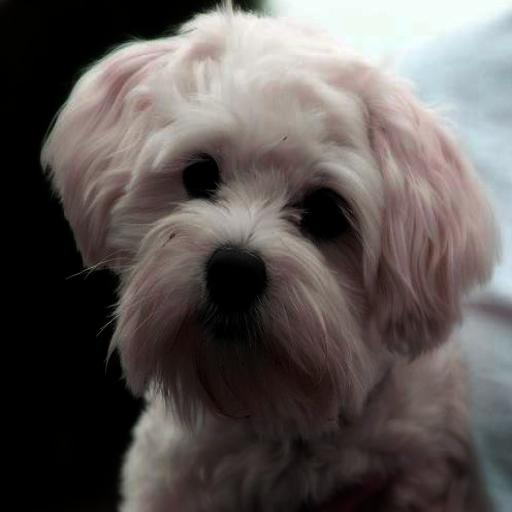dog_face: (55, 19, 474, 398)
